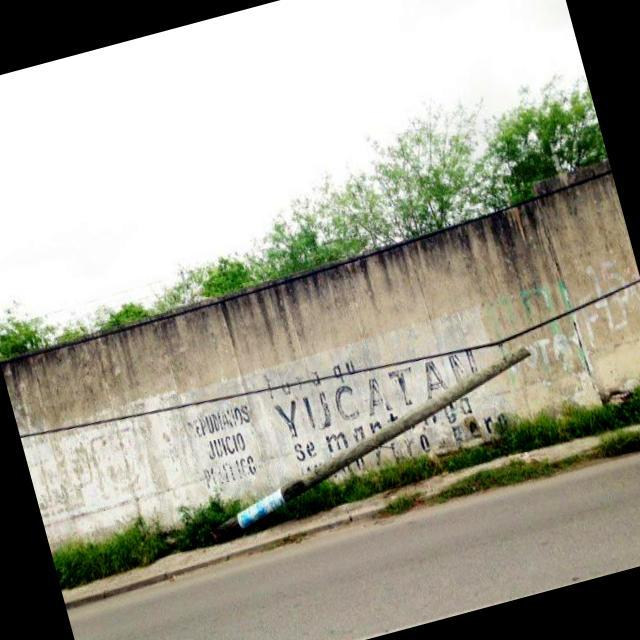Broken Pole: (211, 345, 531, 544)
